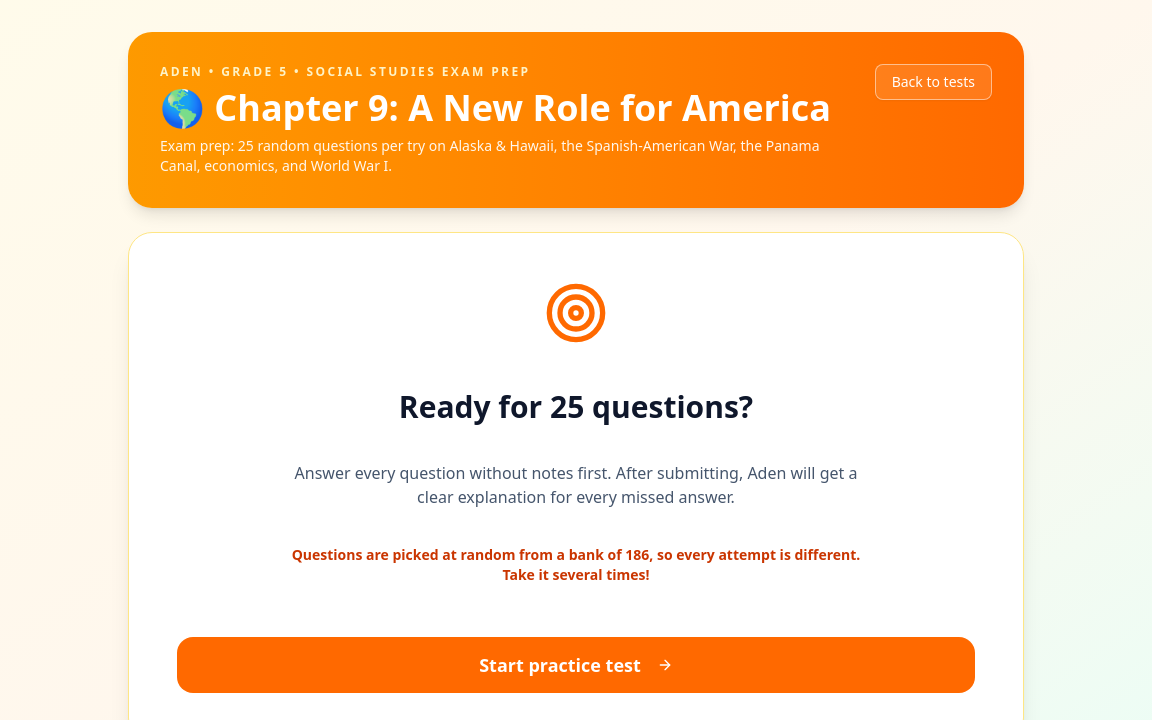
Test: Grade 5 Social Studies test runner › runs a 25-question random Chapter 9 attempt and resumes the same draw after a reload
Later steps or results of the test are not shown.
Expected: the text "picked at random from a bank of" is shown, [292,545,625,564]
Click the button "Start practice test": (576, 665) [177,637,975,693]
(page scrolled)
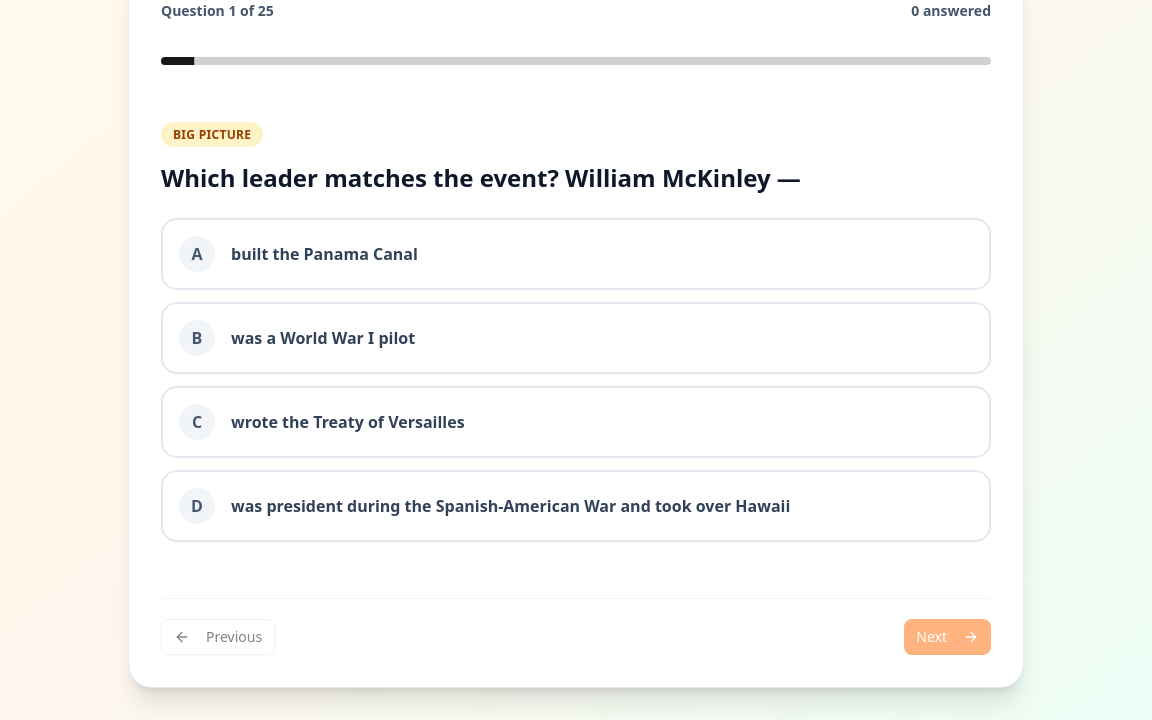
Result: the text "Question 1 of 25" is shown at [161,1,274,21]
Click the 4th button: (576, 506) [161,470,991,542]
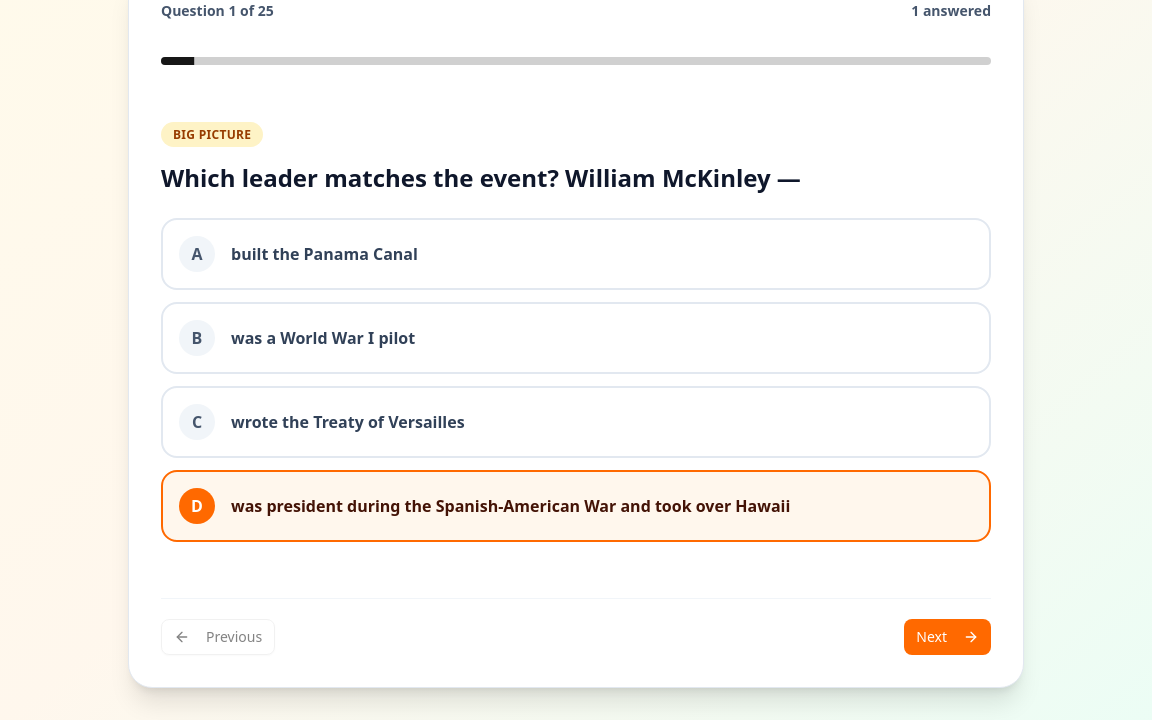
Click the button "Next": (948, 637) [904,619,991,655]
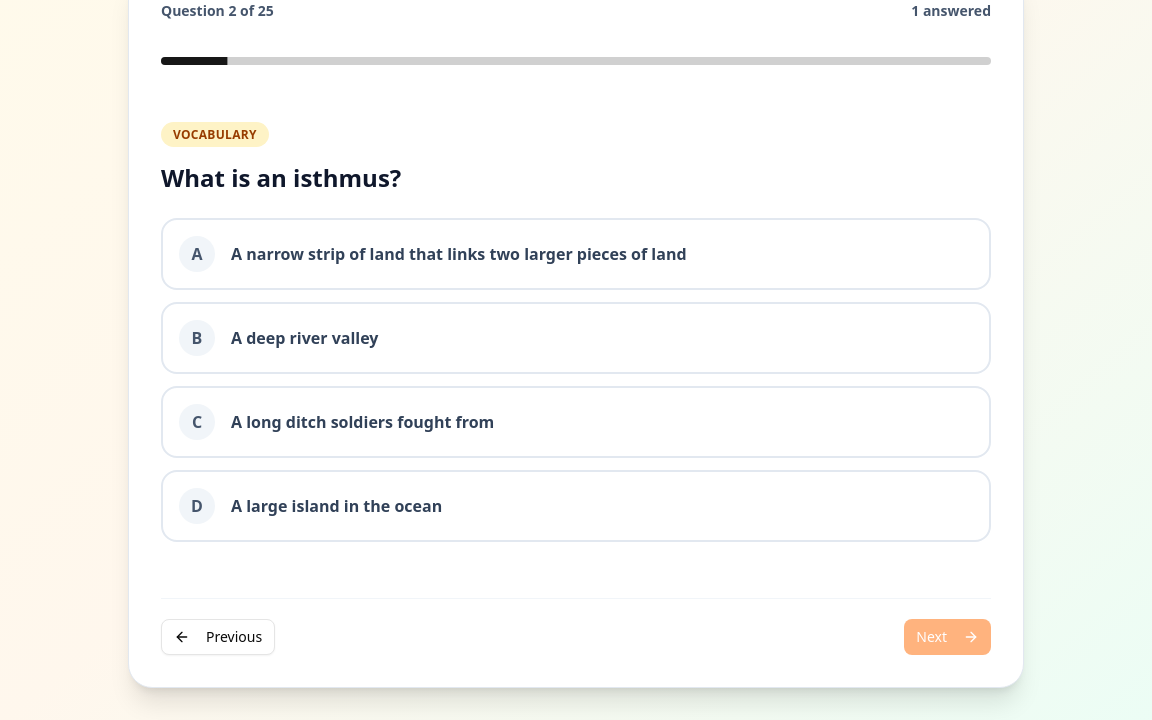
Result: the heading "What is an isthmus?" is shown at [161,161,401,194]
